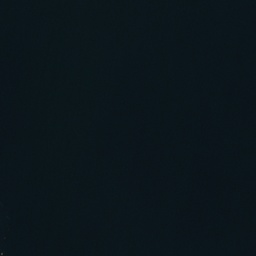Marine Debris: (0, 252, 4, 256)
